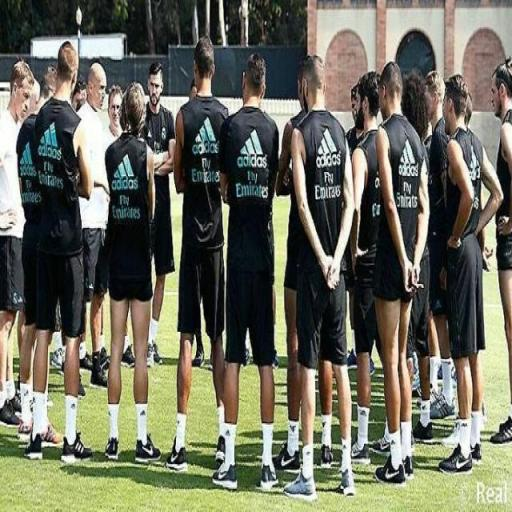Adidas: (236, 125, 268, 171)
